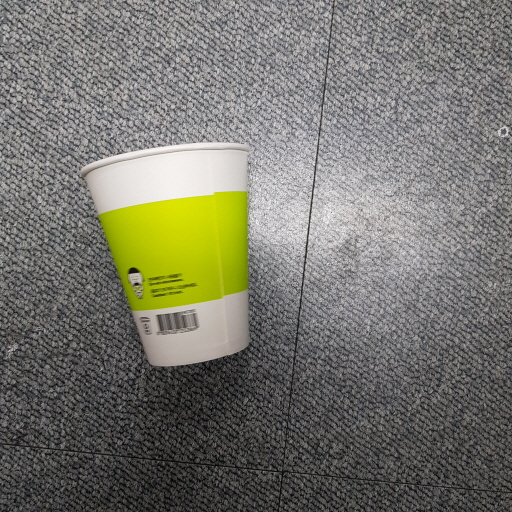Paper_1: (81, 138, 253, 367)
